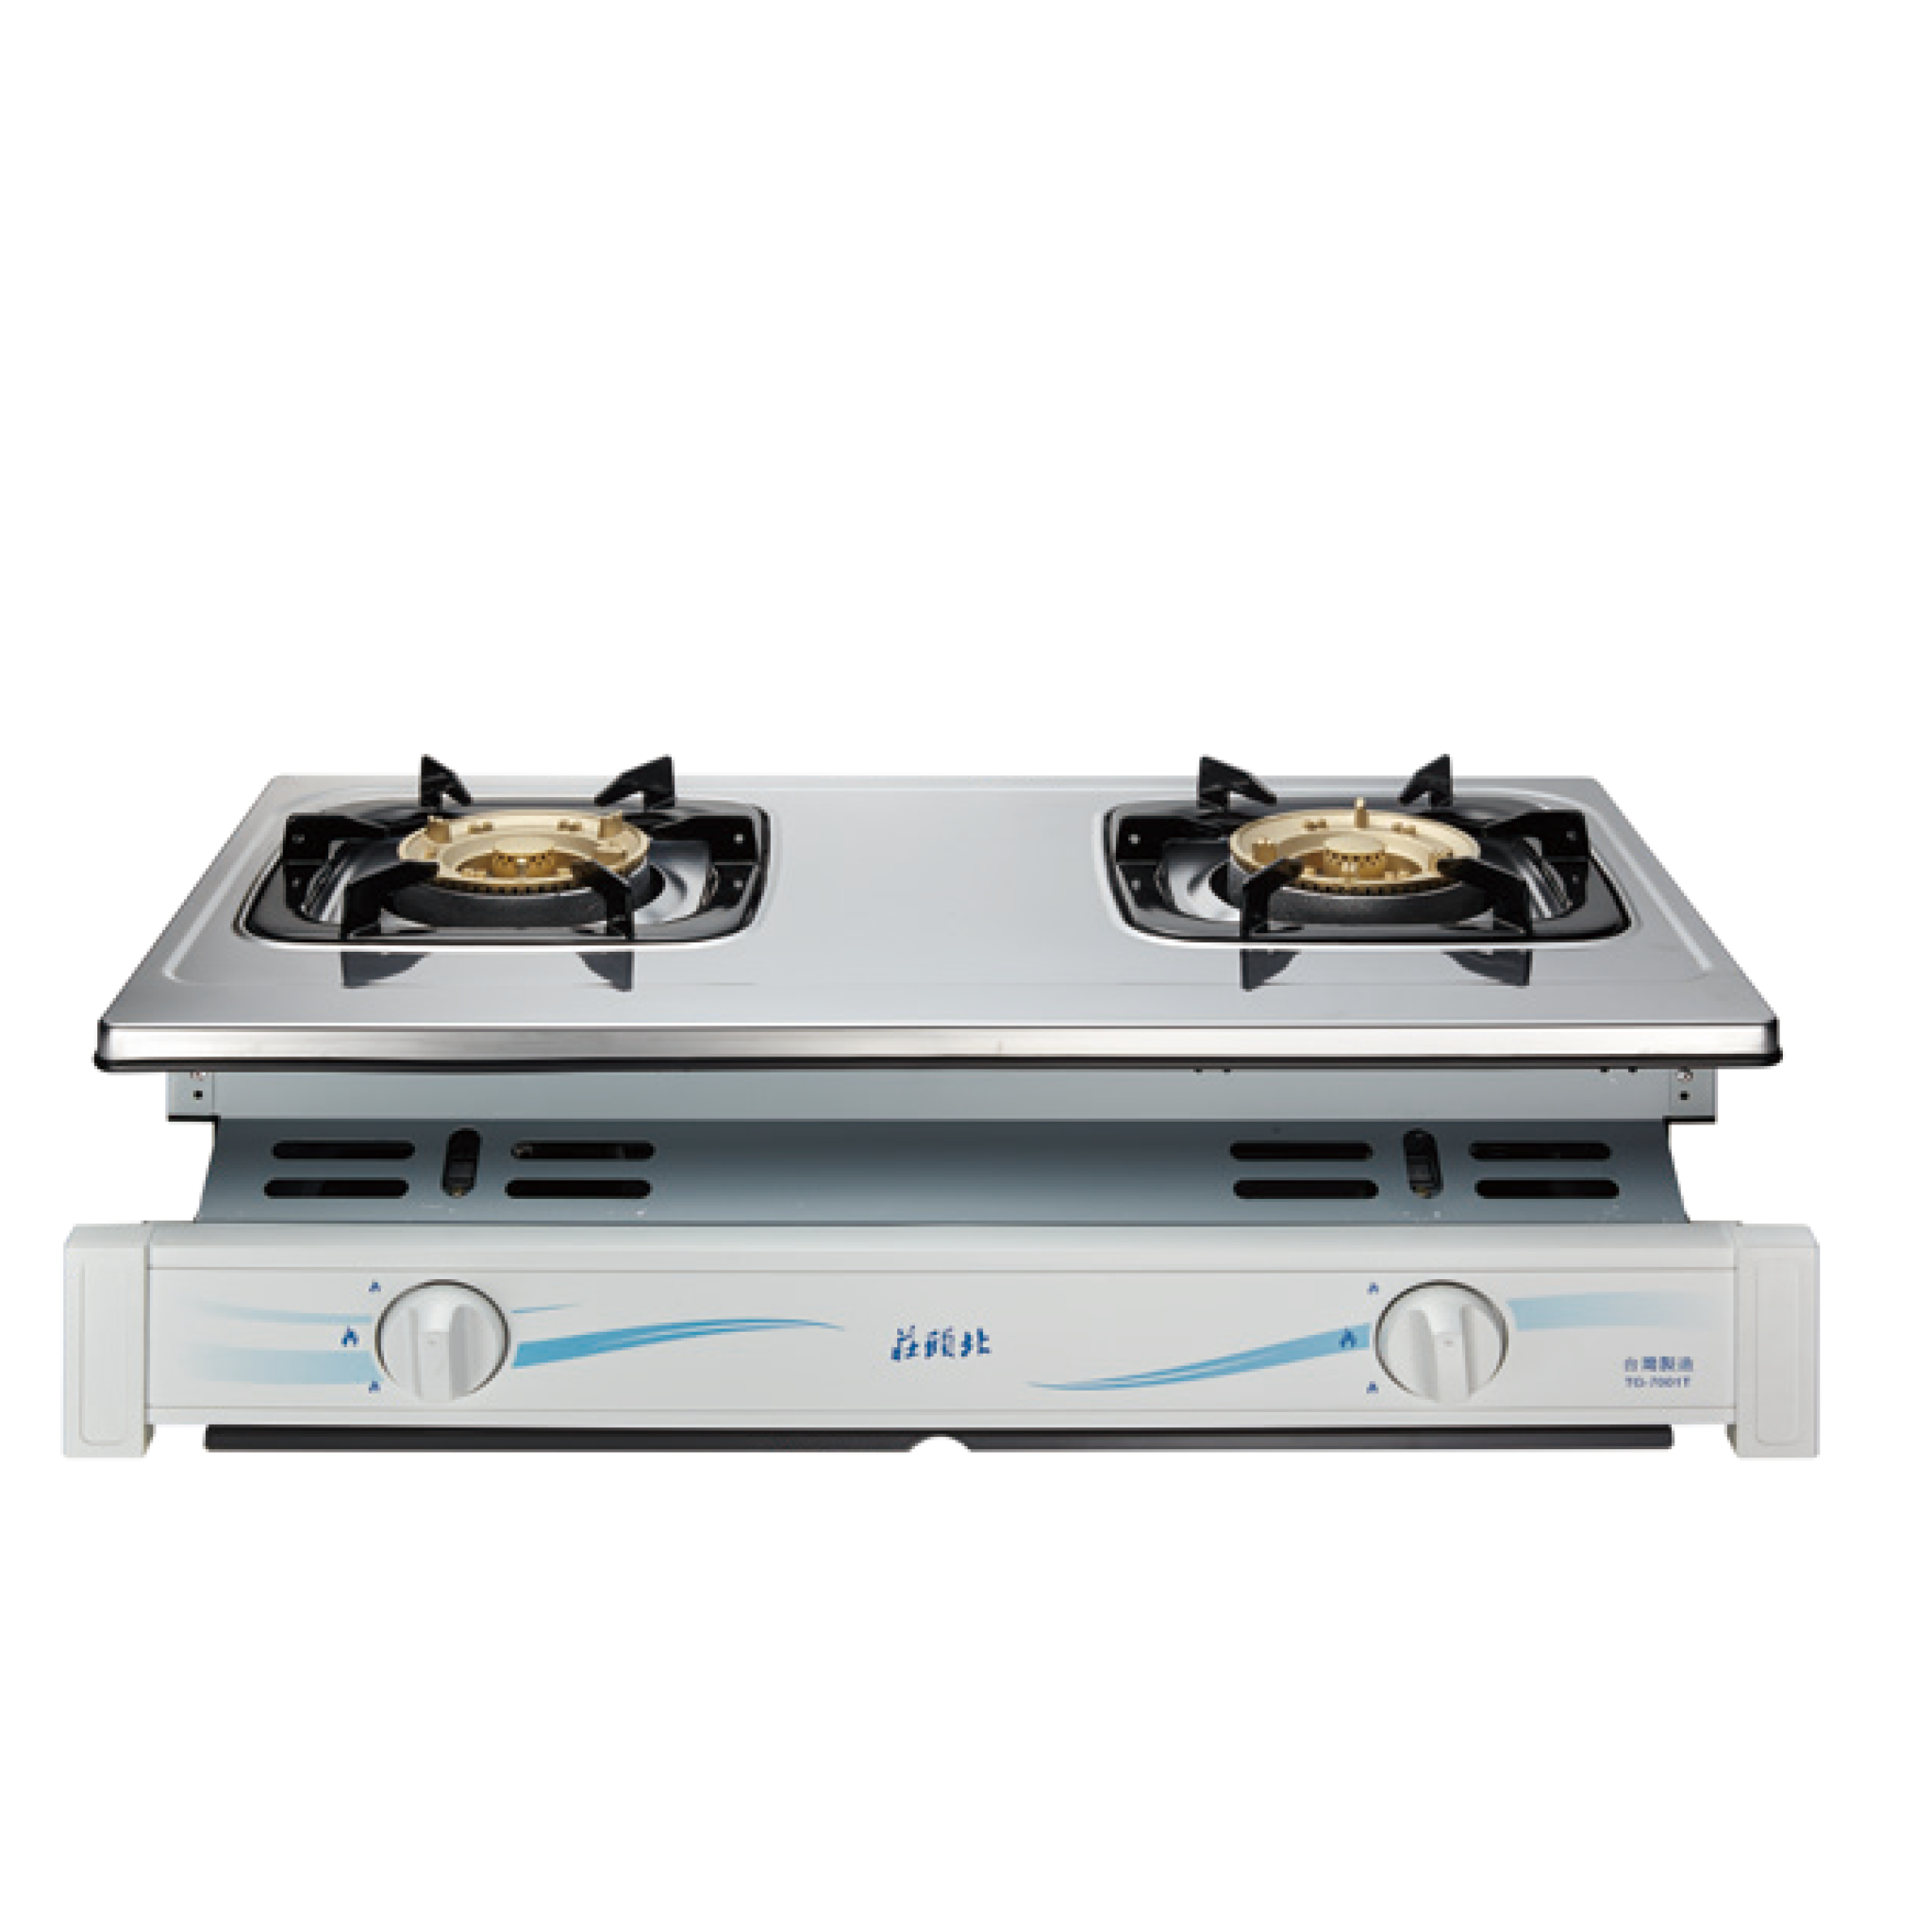gasoven: (58, 754, 1842, 1499)
